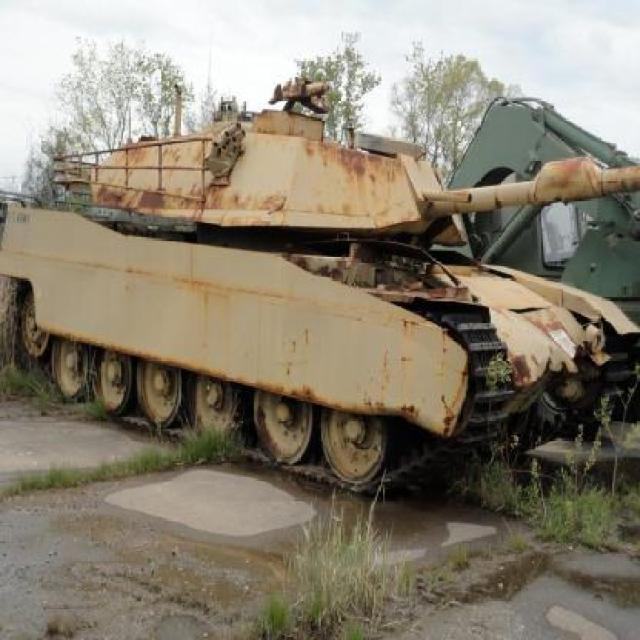corrosion: (4, 77, 640, 500)
